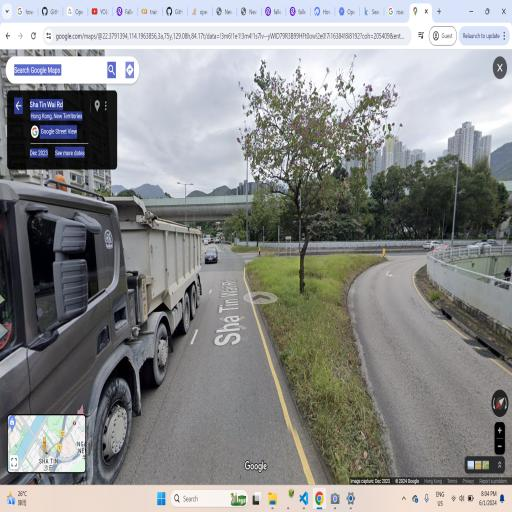Roads: (126, 232, 321, 469), (372, 248, 507, 464)
Trees: (243, 55, 372, 319)
